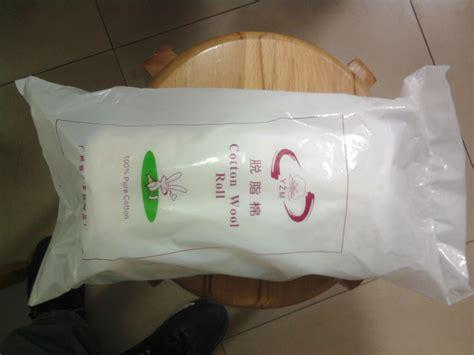cotton: (57, 106, 376, 264)
